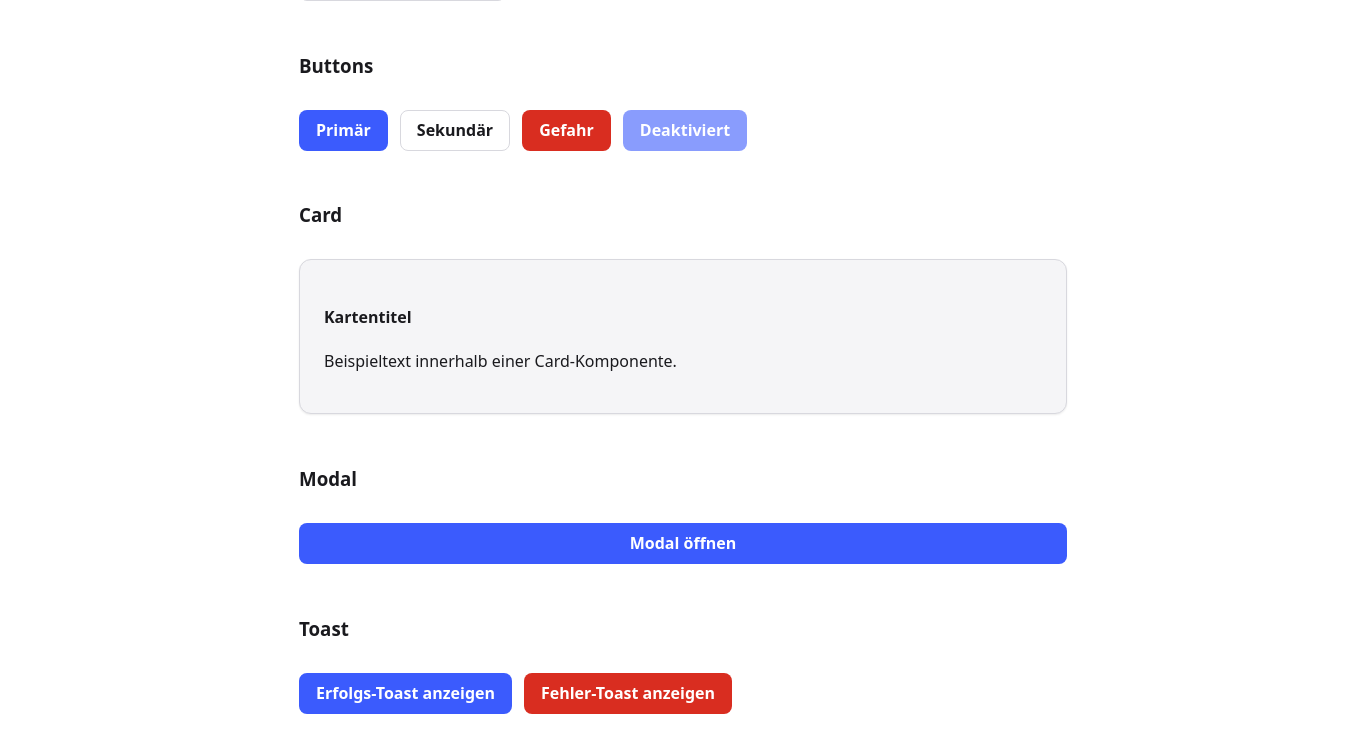
Scenario: DemoPage › opens the modal and closes it via the close button
(page scrolled)
Click the button "Modal öffnen".
click(683, 543)  # box left=299, top=523, right=1067, bottom=564
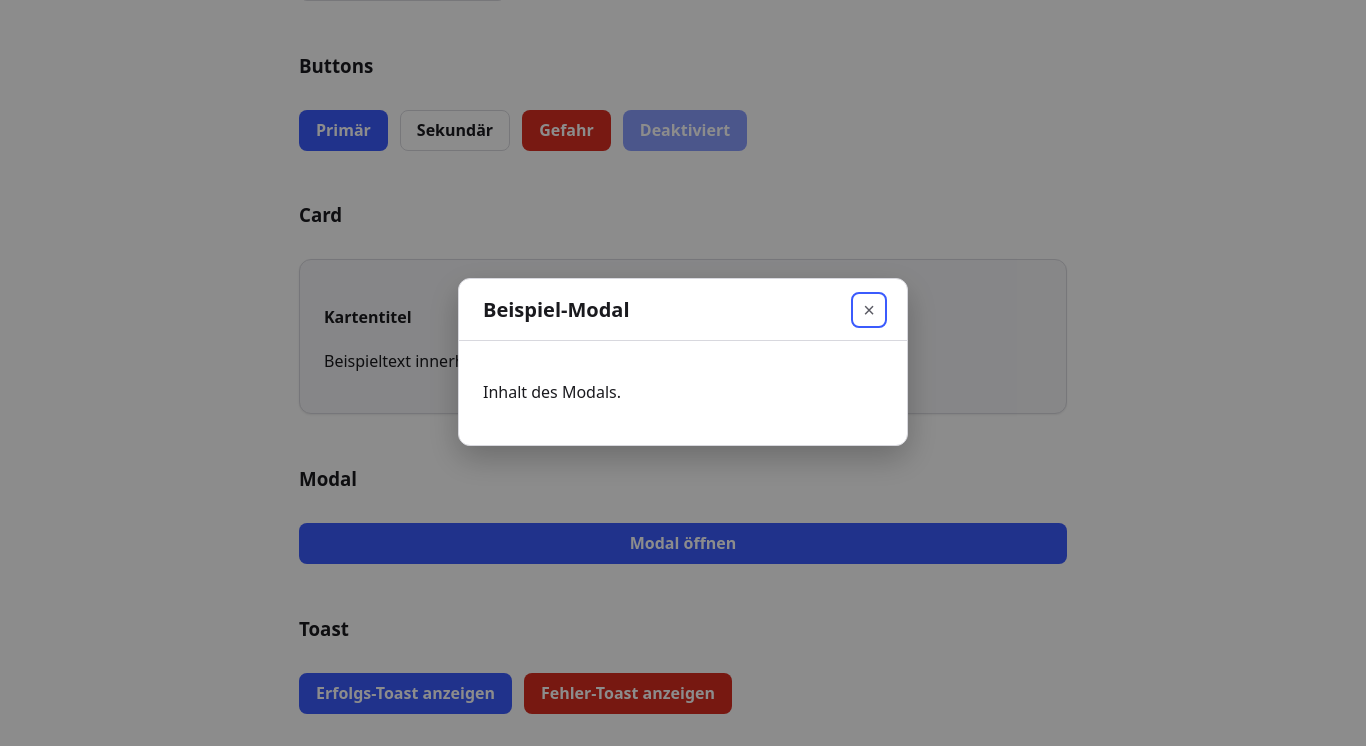
Check: the dialog "Beispiel-Modal" is shown, box left=458, top=278, right=908, bottom=446
Click the button named "Schließen".
click(869, 310)  # box left=855, top=296, right=883, bottom=324
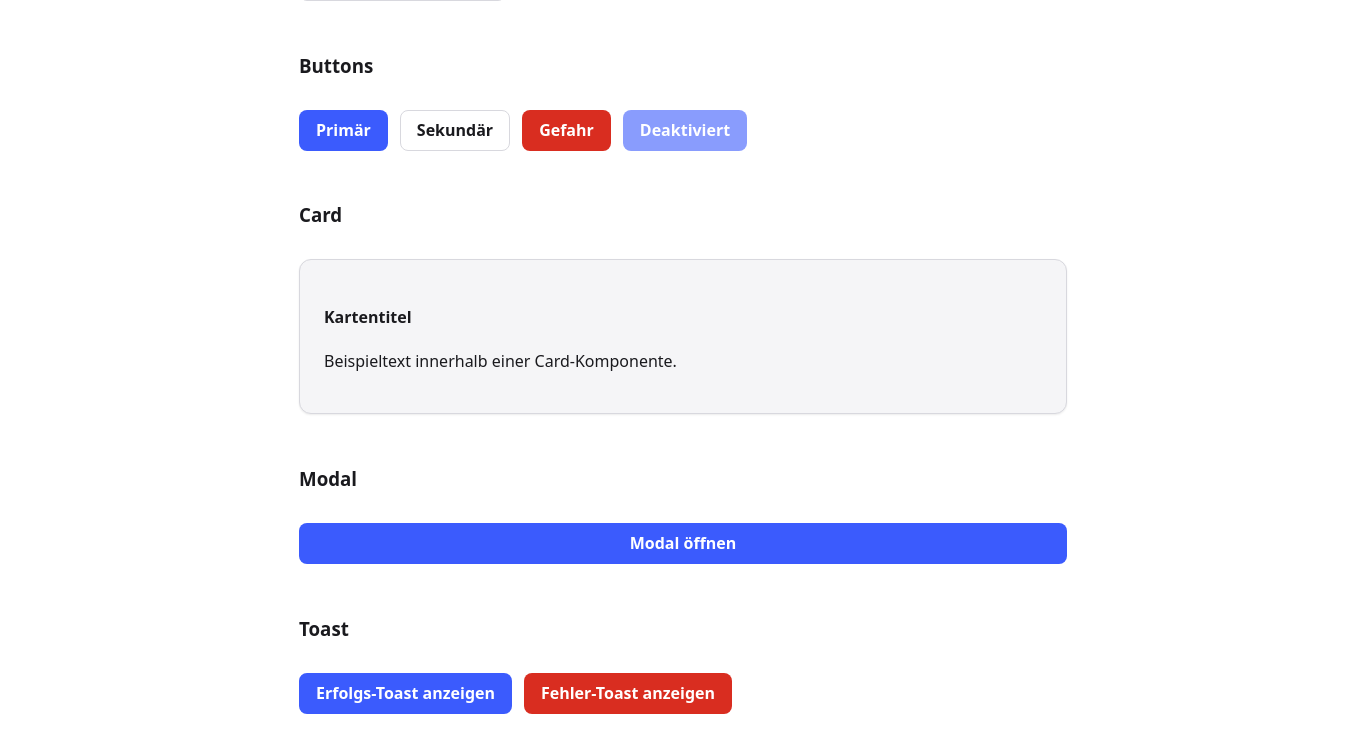
Check: the dialog is gone
